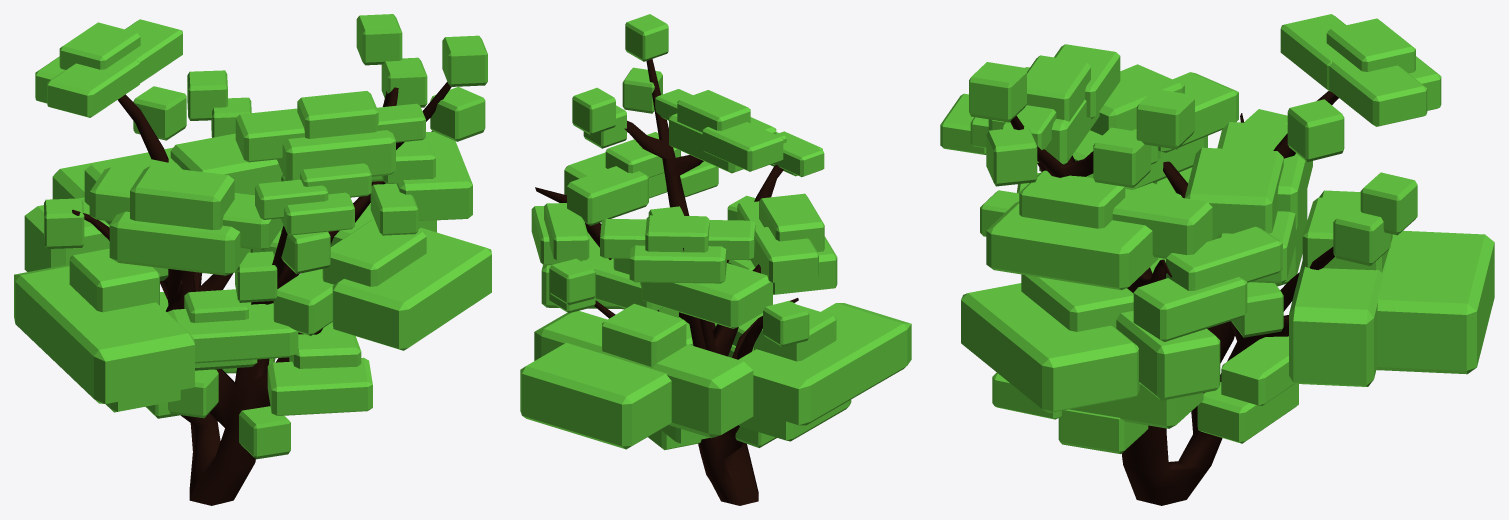
Rendered from cottonwood.fbx.
The picture shows the model from 3 angles, left to right: view 1: azimuth 30°, elevation 25°; view 2: azimuth 150°, elevation 25°; view 3: azimuth 270°, elevation 25°; orthographic projection. The views are drawn at different scales.
Parts seen in each view (by area): view 1: cottonwood; view 2: cottonwood; view 3: cottonwood.
Boxes of the visible parts, left/top/right/bottom form: cottonwood: left=14, top=14, right=491, bottom=505; cottonwood: left=520, top=14, right=911, bottom=505; cottonwood: left=940, top=14, right=1494, bottom=505.
Size of the model in its own units: 65.04 by 68.78 by 71.46.
